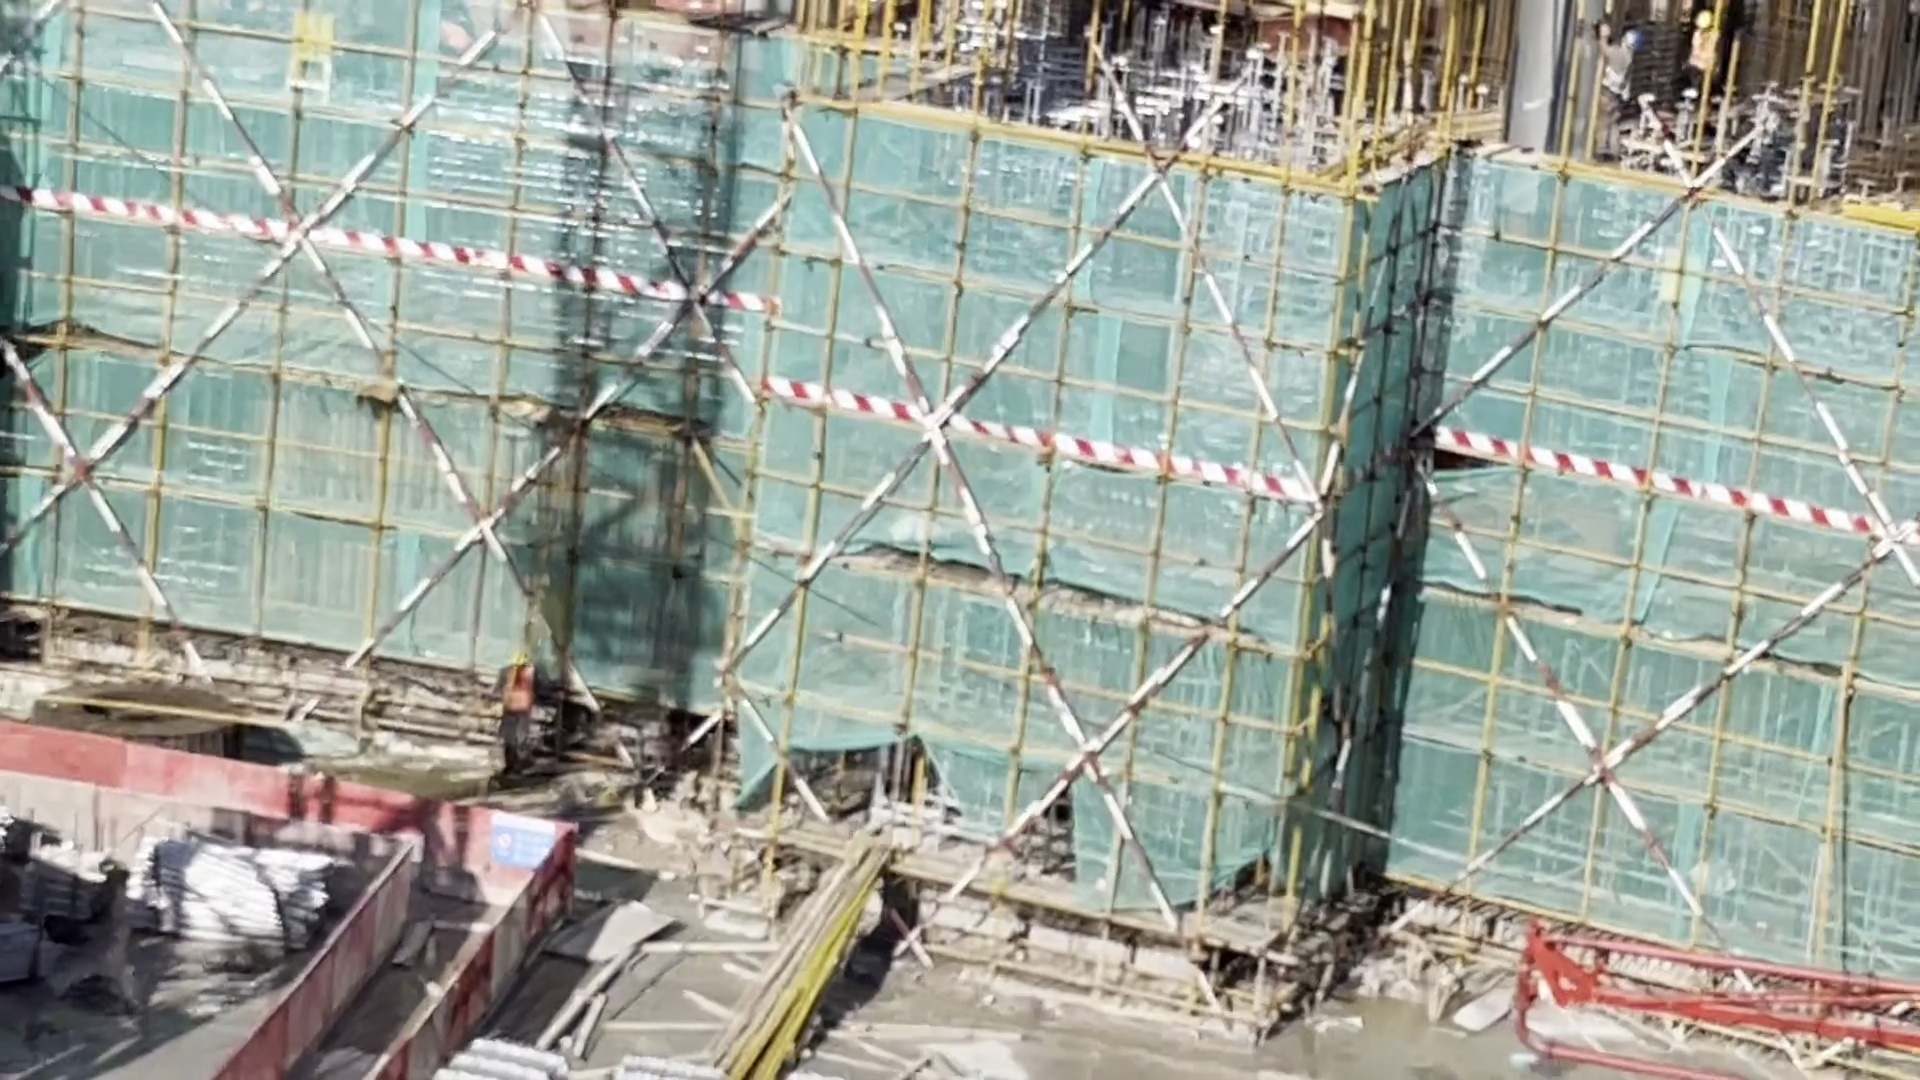fence: (5, 722, 478, 908), (213, 854, 559, 1080)
helmet: (1695, 11, 1711, 28)
person: (488, 651, 535, 787), (1601, 24, 1636, 156), (1690, 8, 1717, 100)
scaffold: (128, 839, 315, 951), (20, 847, 108, 929)
slogan: (483, 811, 559, 872)
vest: (498, 674, 529, 719), (1696, 31, 1717, 69), (1602, 68, 1628, 93)
